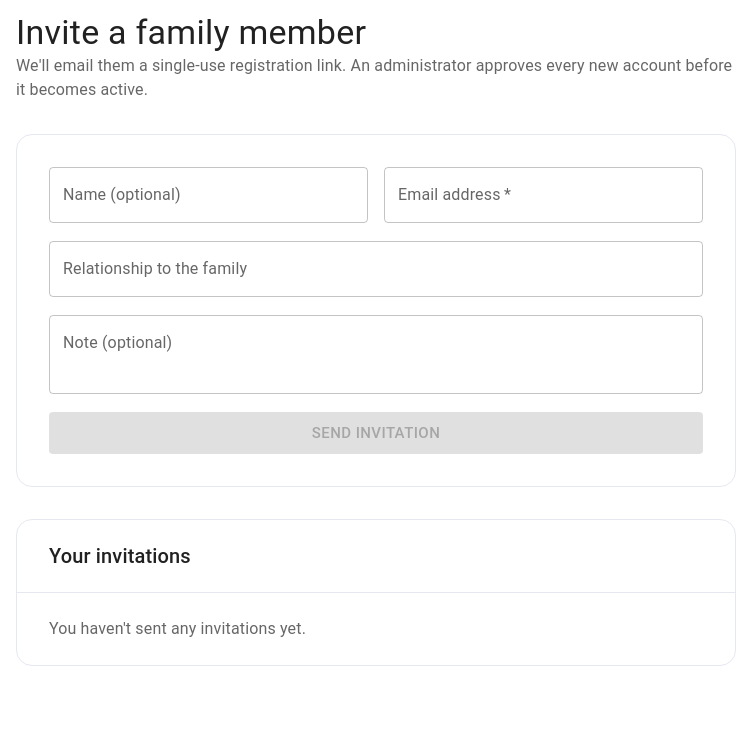
Test case: InvitePage › shows an error and no link when creation fails
This screenshot has width=753, height=732.
Expected: the text "You haven't sent any invitations yet." is shown, top-left (49, 619), bottom-right (306, 638)
In the field labelled "Email address": (544, 195) top-left (384, 167), bottom-right (703, 223), type "x@example.com"
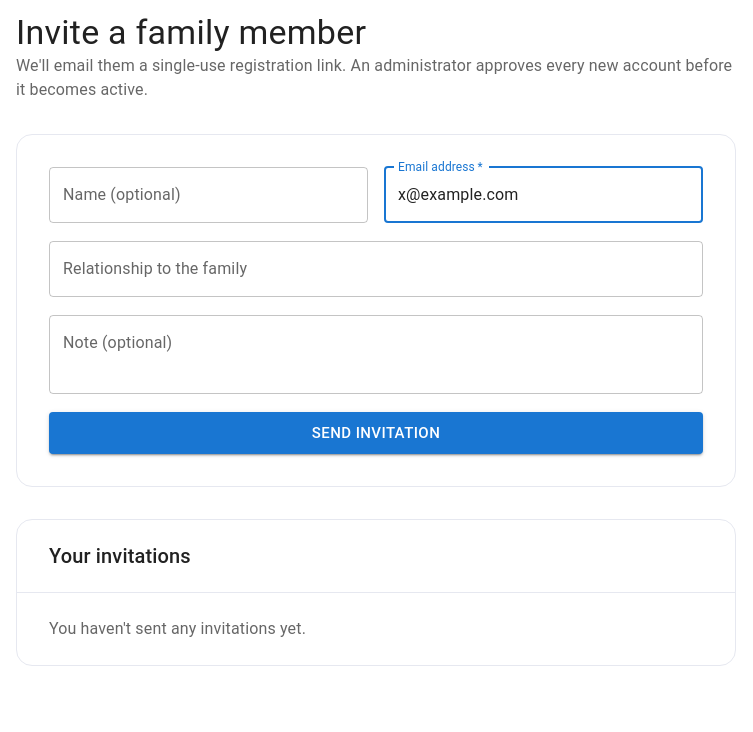
Click the button "Send invitation": (376, 433) top-left (49, 412), bottom-right (703, 454)
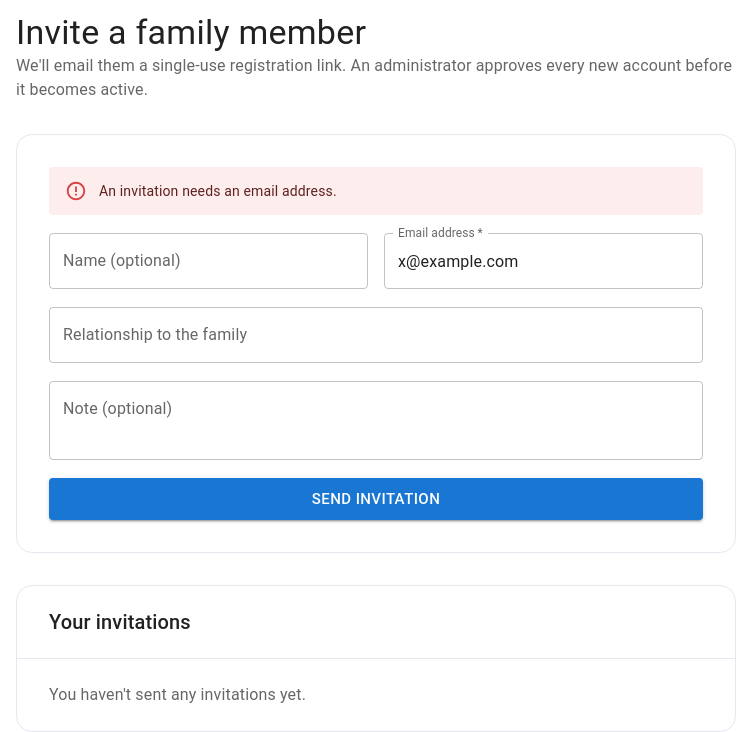
Expected: the message reads "An invitation needs an email address.", top-left (99, 183), bottom-right (337, 199)
